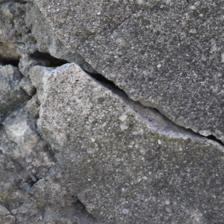Crack: (44, 49, 219, 148)
